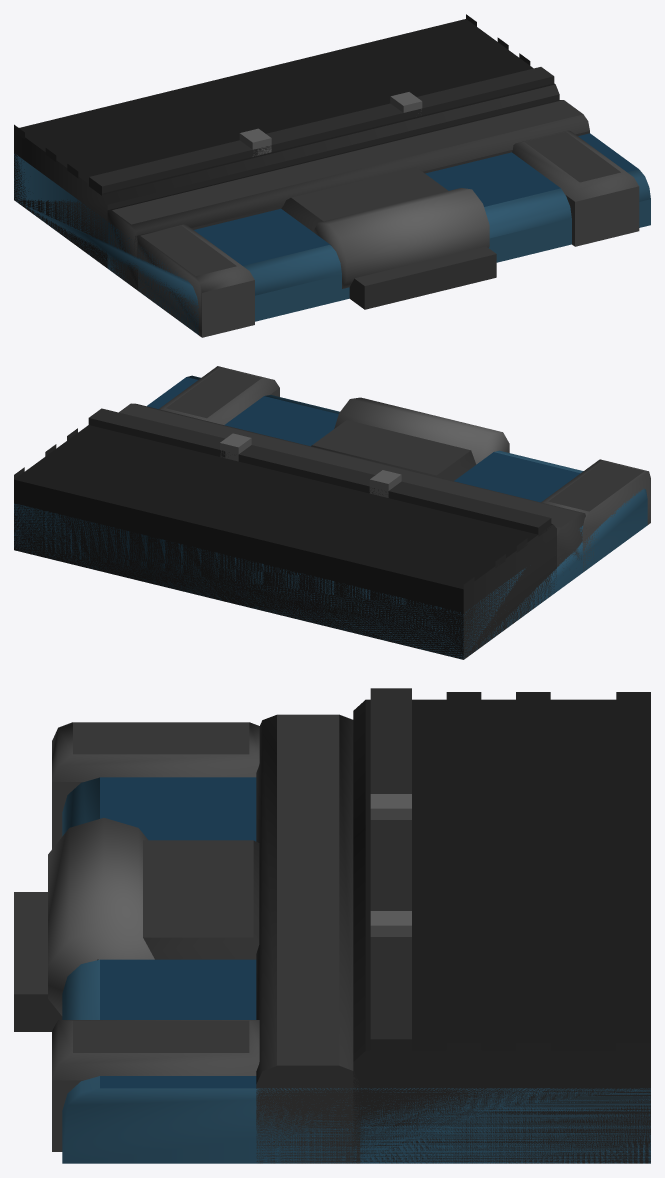
Rendered from newsho-122.glb.
The picture shows the model from 3 angles, top to bottom: view 1: azimuth 30°, elevation 25°; view 2: azimuth 150°, elevation 25°; view 3: azimuth 270°, elevation 25°; orthographic projection. The views are drawn at different scales.
Parts seen in each view (by area): view 1: newsho-122; view 2: newsho-122; view 3: newsho-122.
Boxes of the visible parts, x1,y1,x2,y2 form: newsho-122: (14, 14, 650, 337); newsho-122: (14, 366, 650, 659); newsho-122: (14, 688, 650, 1163).
Size of the model in its own units: 2 by 0.3617 by 1.53.
